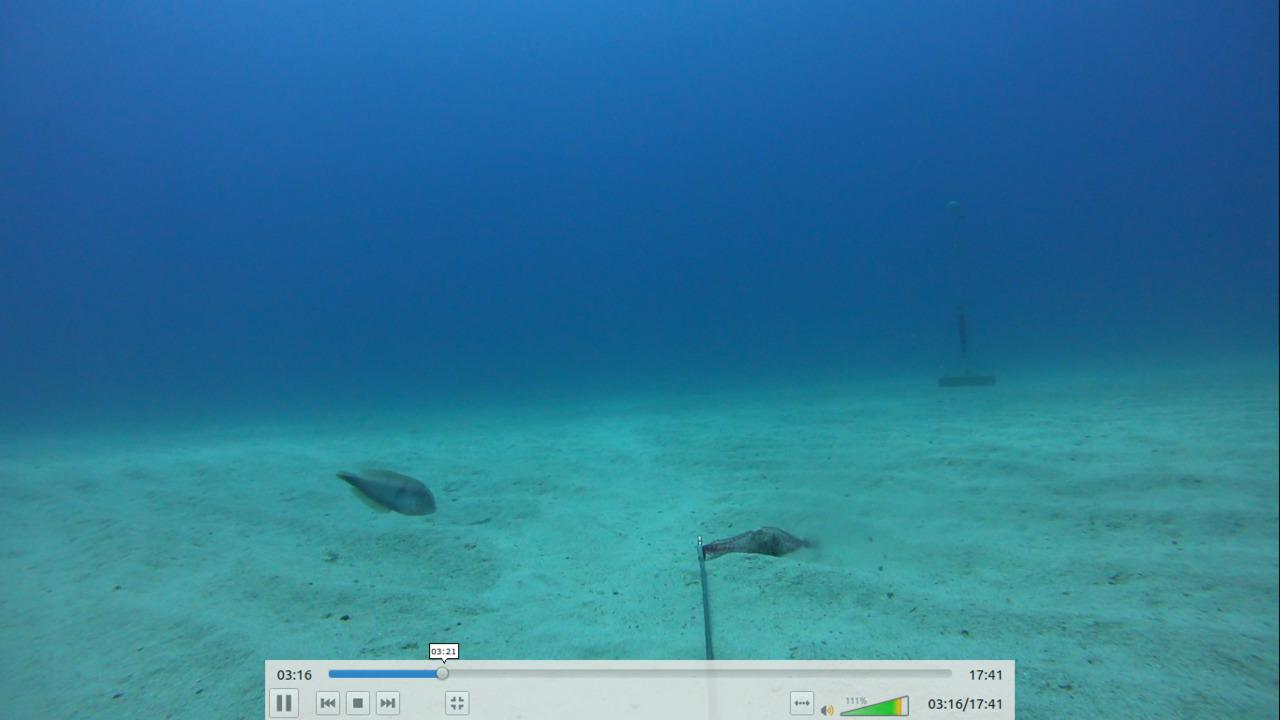raor: (330, 455, 447, 524)
